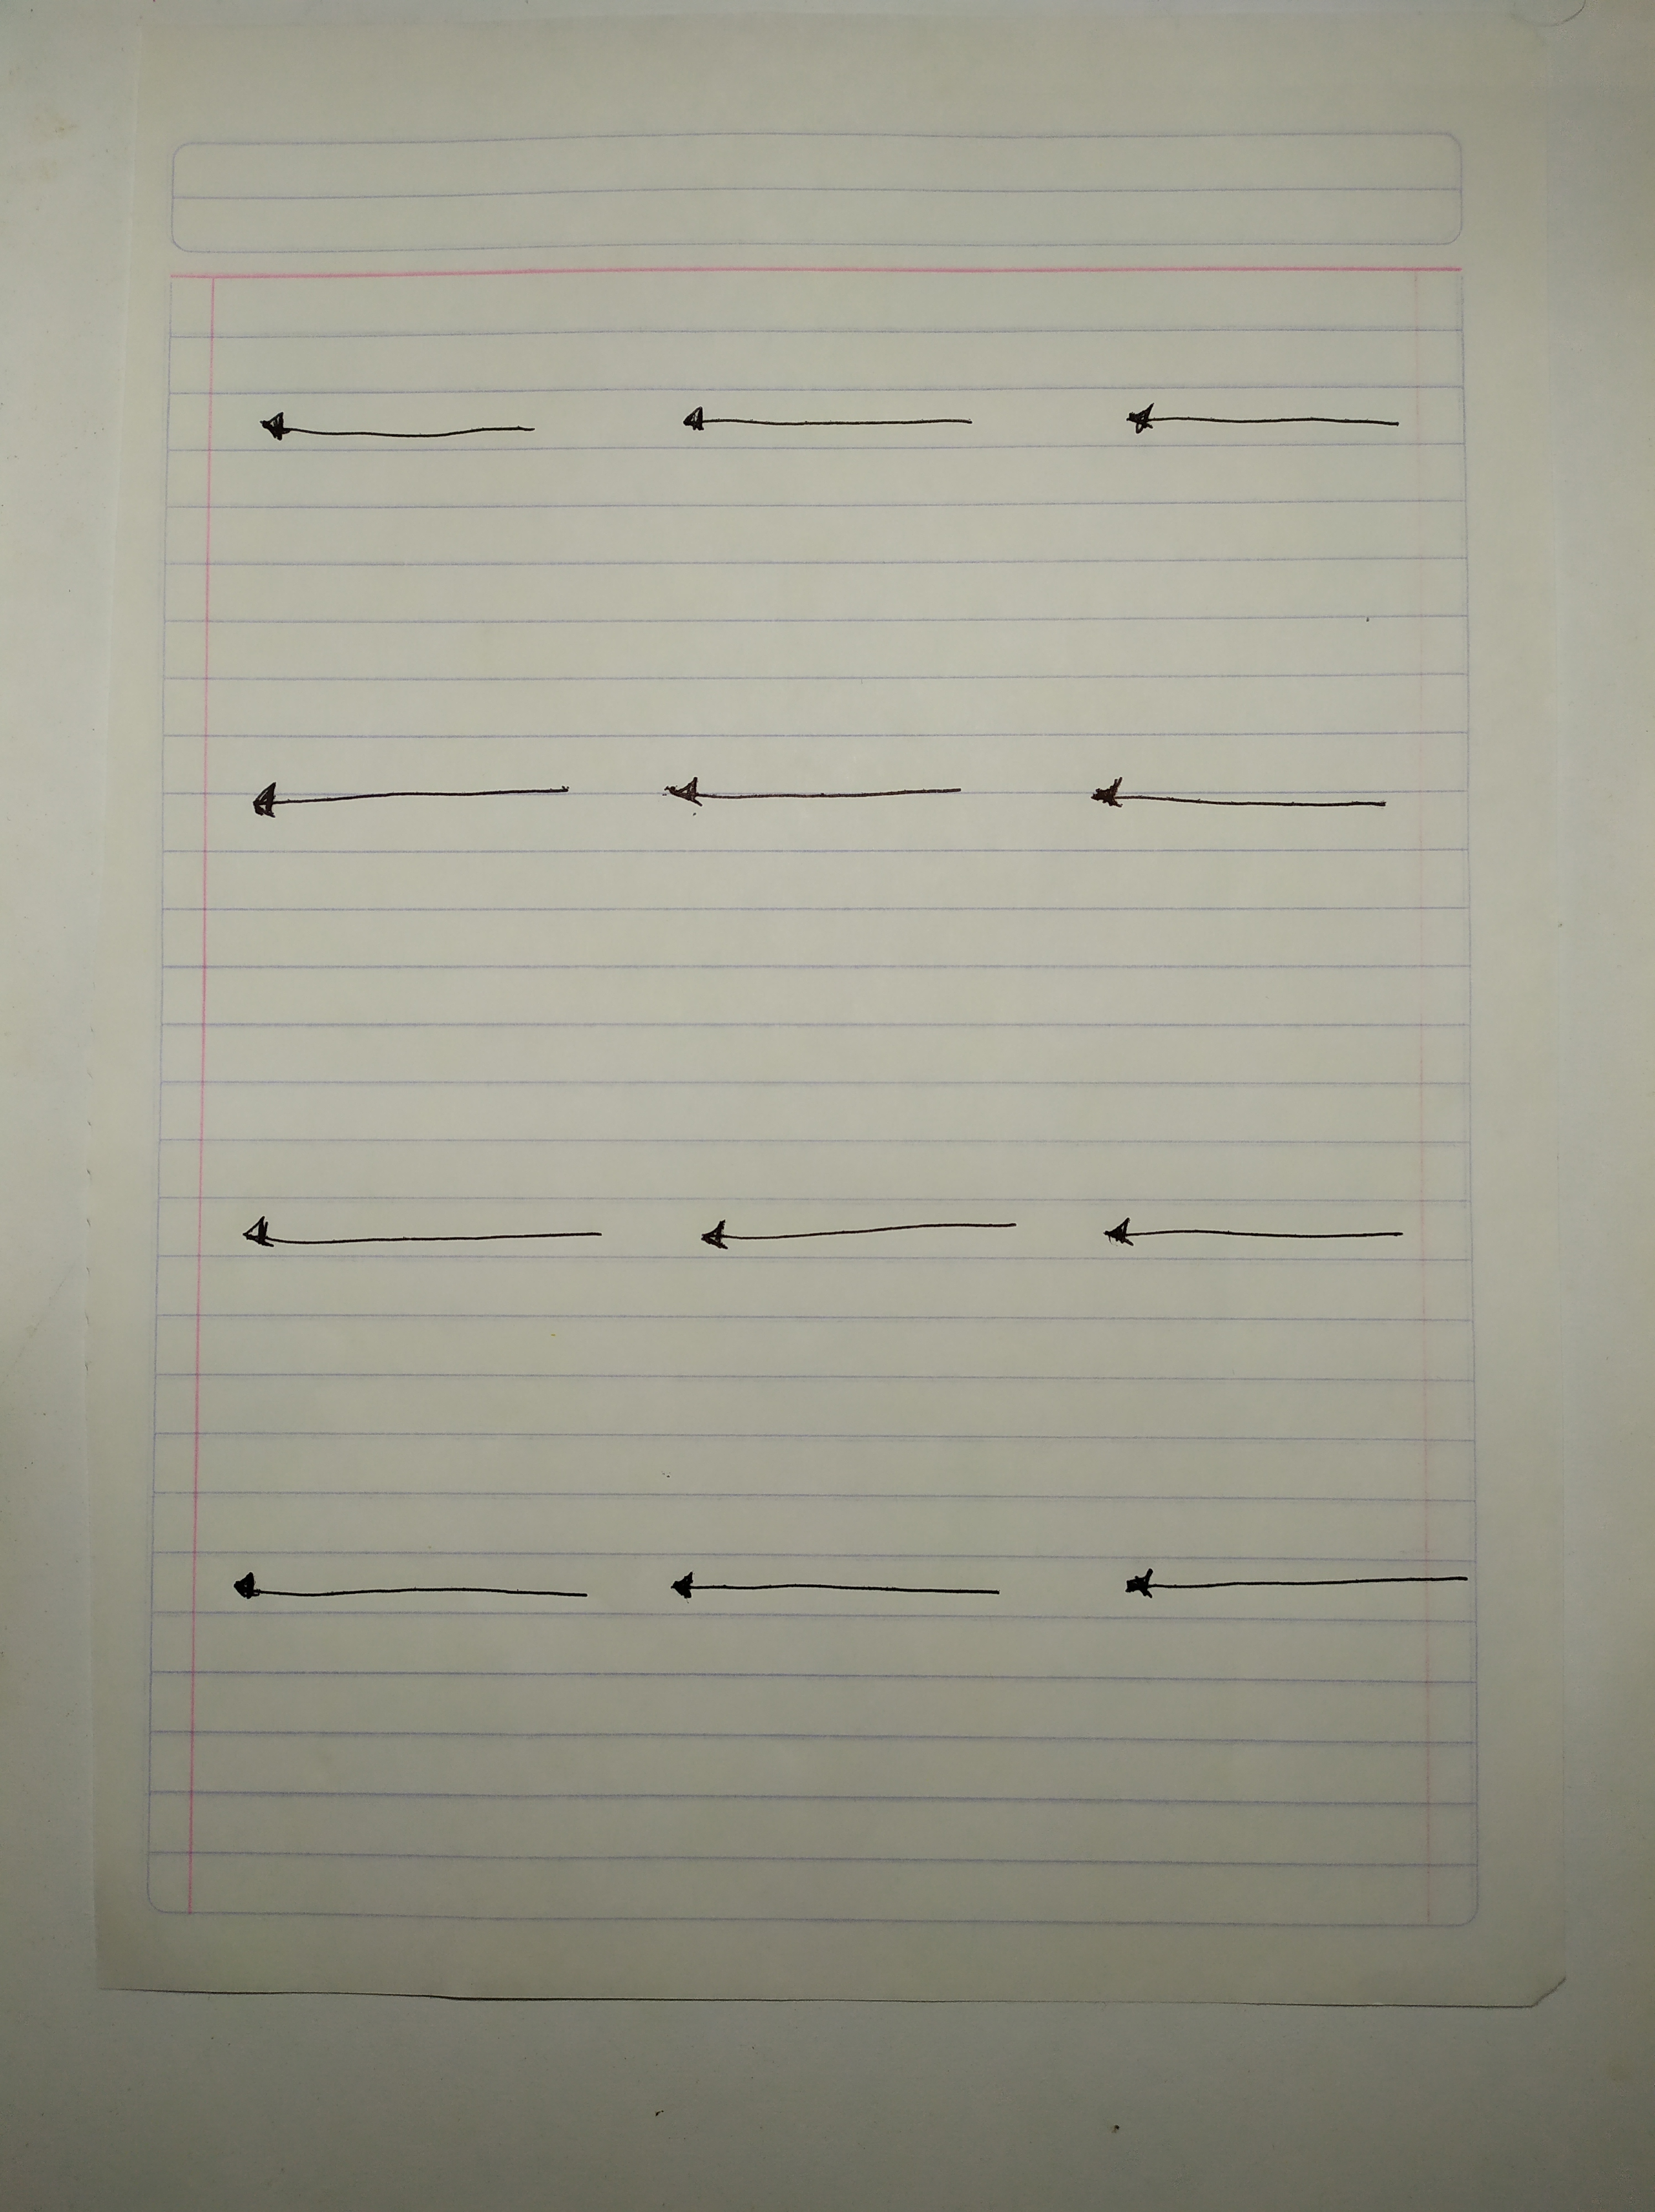arrow_line_left: (668, 1194, 1064, 1296), (233, 381, 568, 487), (1047, 752, 1417, 846), (652, 389, 998, 488), (200, 1550, 614, 1632), (629, 1546, 1057, 1625), (207, 1194, 636, 1268), (219, 747, 603, 829), (1083, 375, 1443, 459), (1081, 1201, 1441, 1281), (1099, 1553, 1500, 1621), (629, 765, 1003, 834)
